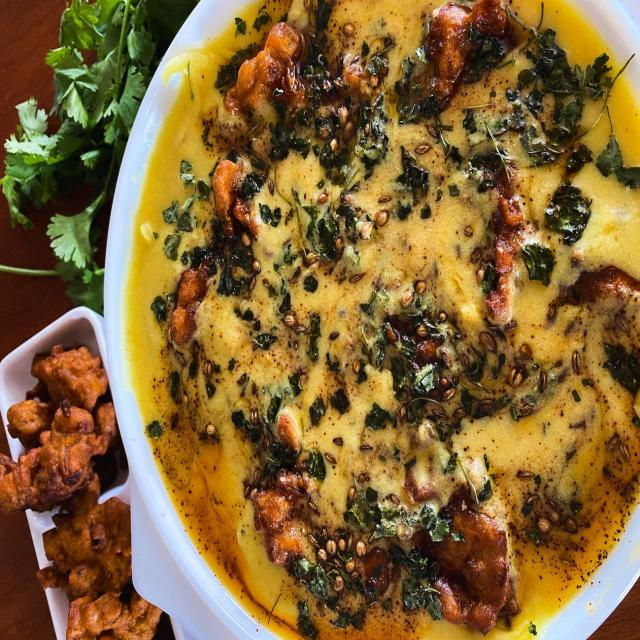Kadhi Pakora: (129, 0, 639, 640)
